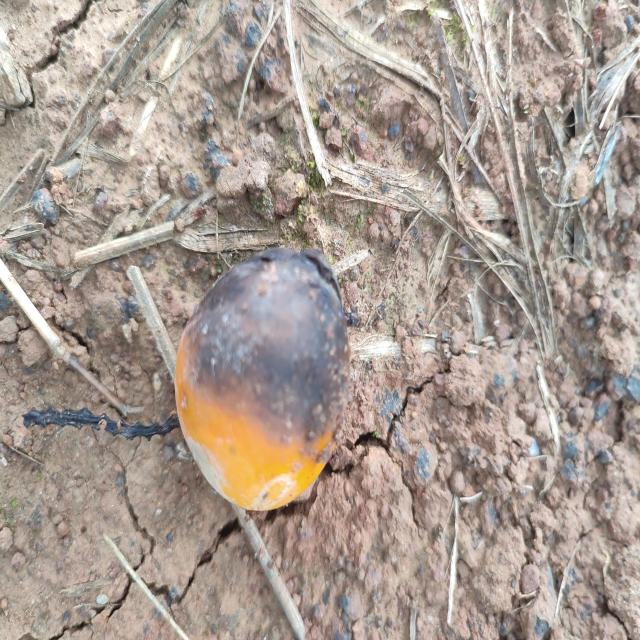damaged: (175, 248, 350, 541)
